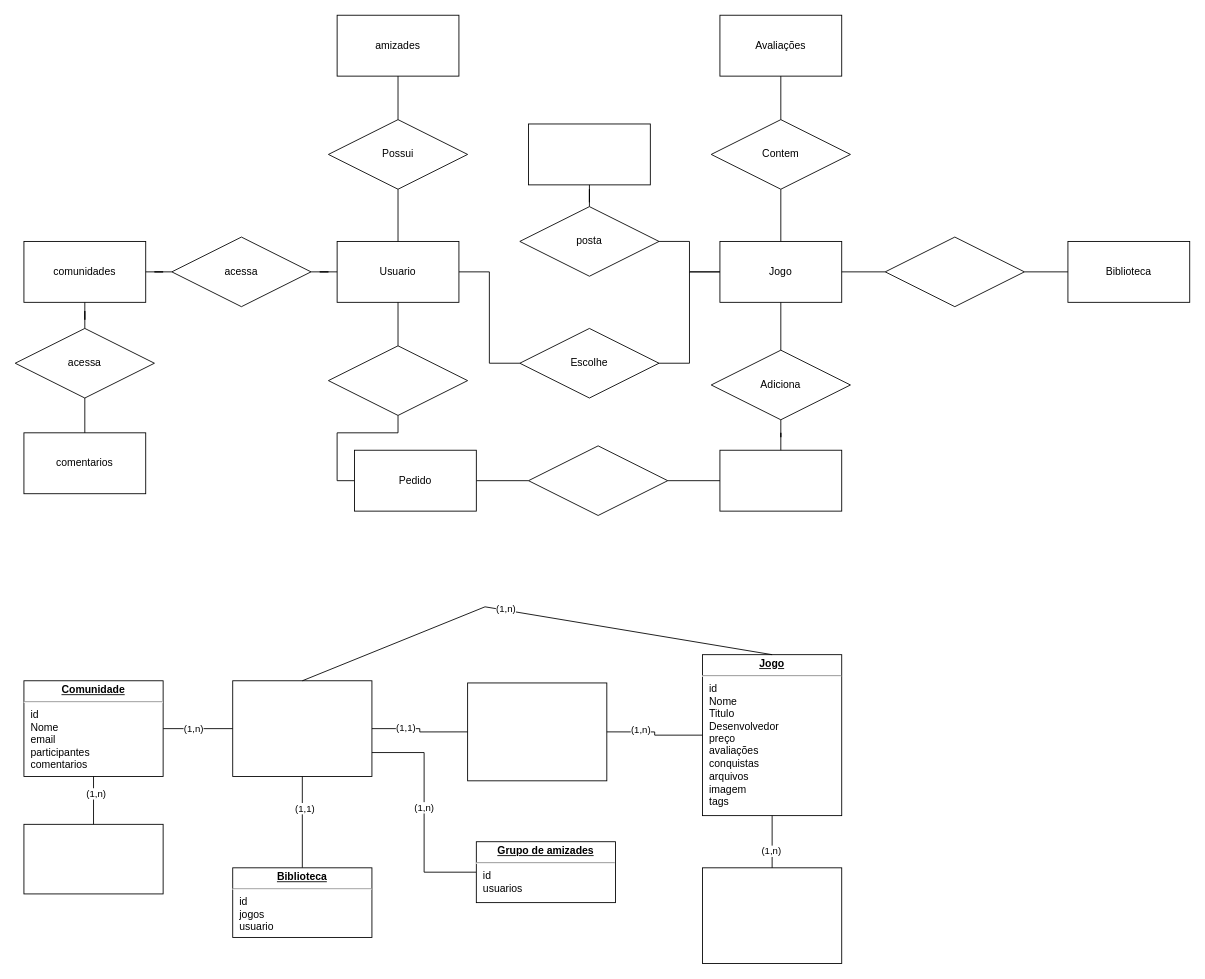
Some shapes in this 1205 by 979 pixel diagram are drawn without their labels. Here are the shapes that lost their labels. From the top down, the box of each, then its label:
(528, 123, 650, 185): Usuário desenvolvedor
(884, 236, 1024, 307): Armazena
(328, 345, 468, 415): Compra
(528, 445, 668, 515): Atribui
(719, 449, 842, 511): carrinho
(232, 680, 372, 776): Usuario id Nome Email Senha tipo imagem
(467, 682, 607, 781): Carrinho id jogos usuario total qtd_itens
(23, 823, 163, 894): comentario id autor conteudo
(702, 867, 842, 964): Avaliações id Autor Conteudo Data_de_postagem nota
